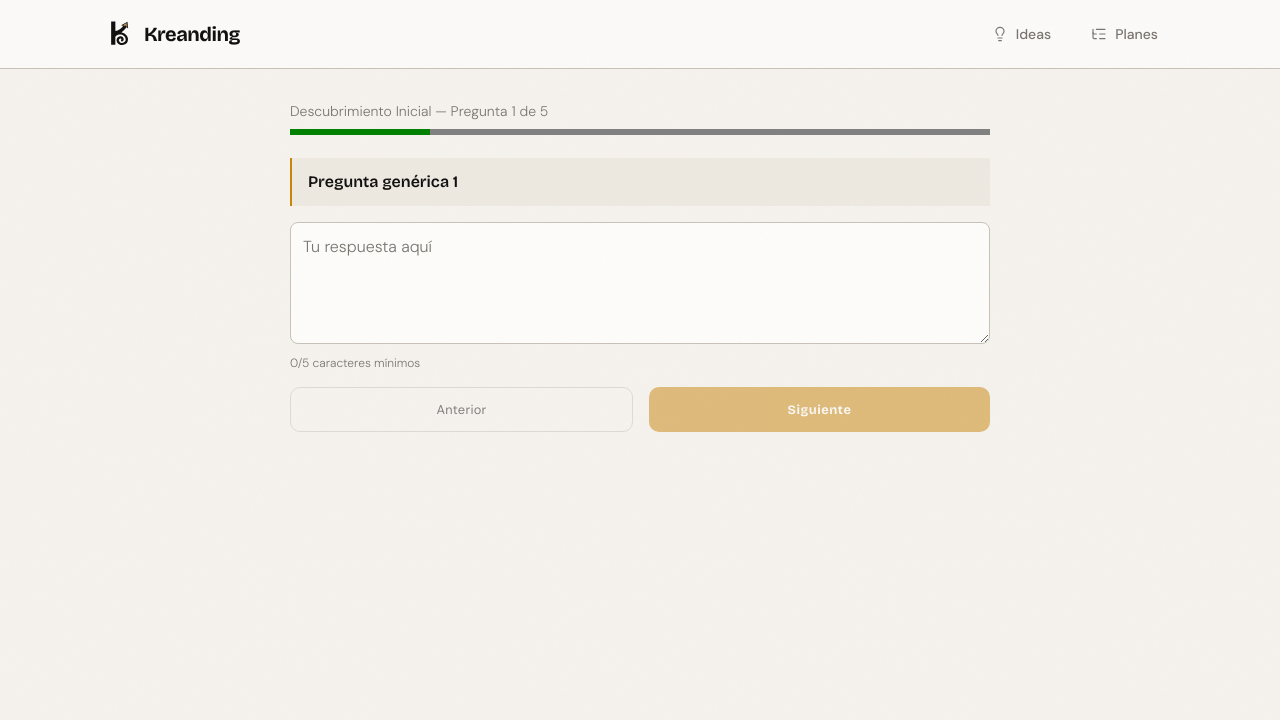
Preguntas genéricas › guarda la respuesta y avanza a la siguiente pregunta
The width and height of the screenshot is (1280, 720).
Check: the text "Pregunta genérica 1" is shown, box [308,172,458,191]
Type "Los dueños no tienen tiempo" into the text box.
click(640, 283); type("Los dueños no tienen tiempo")  # box [290,222,990,344]
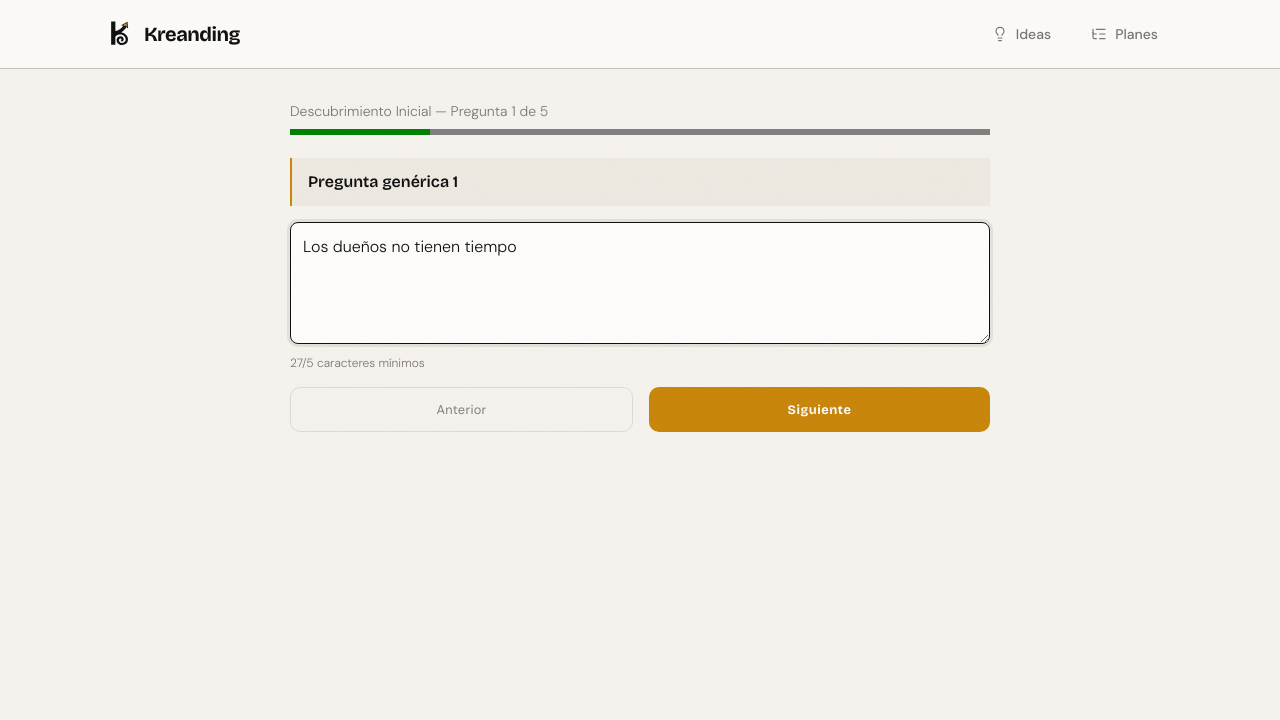
Click the button "Siguiente".
click(820, 410)  # box [649,387,990,432]
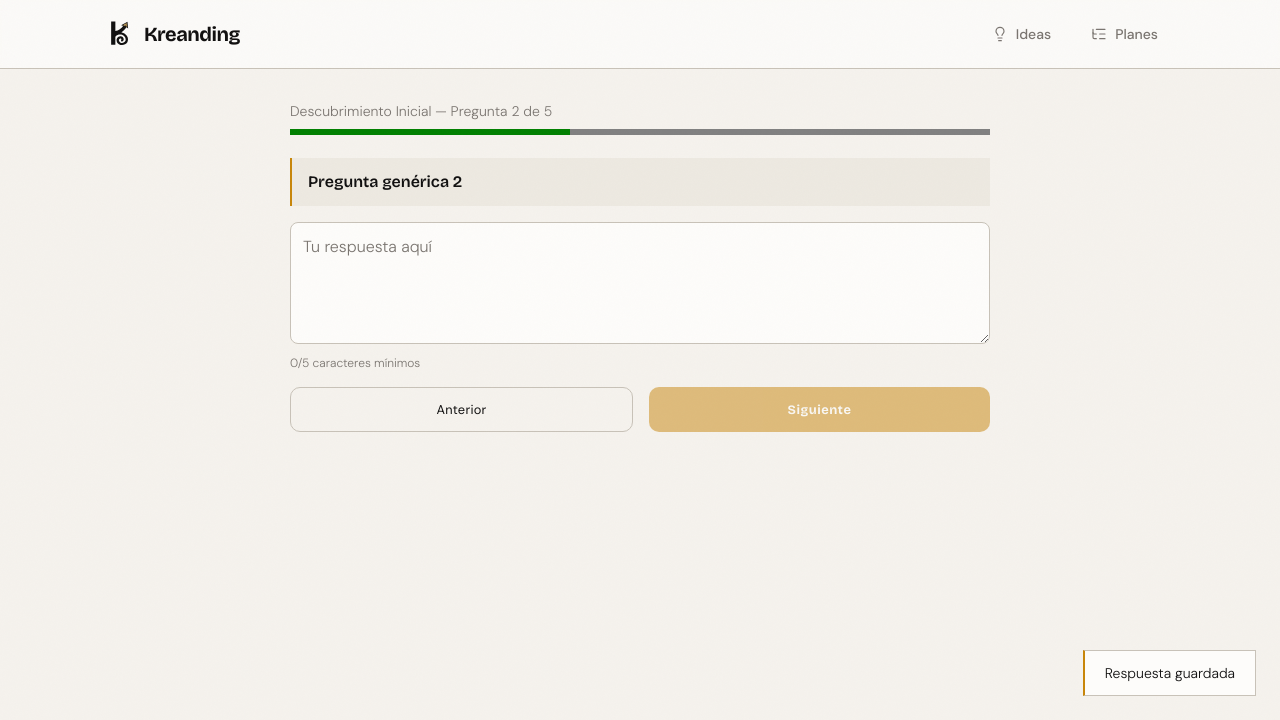
Check: the text "Pregunta genérica 2" is shown, box [308,172,462,191]
